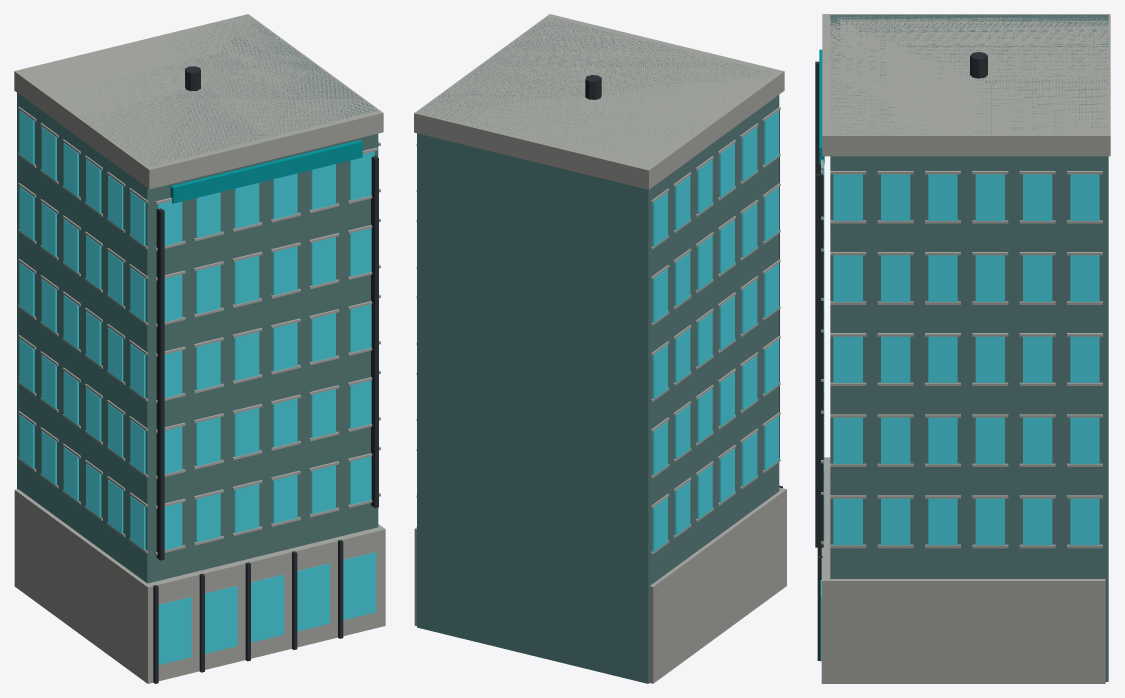
File: JHB_MidRise04_LOD1.fbx
3 renders of one model, left to right at view 1: azimuth 30°, elevation 25°; view 2: azimuth 150°, elevation 25°; view 3: azimuth 270°, elevation 25°, orthographic. The views are drawn at different scales.
Visible parts, largest first — view 1: JHB_MidRise04_LOD1_FacadeAtlas, JHB_MidRise04_LOD1_Concrete, JHB_MidRise04_LOD1_TealGlass, JHB_MidRise04_LOD1_DarkMetal, JHB_MidRise04_LOD1_BlankSignBand; view 2: JHB_MidRise04_LOD1_FacadeAtlas, JHB_MidRise04_LOD1_Concrete, JHB_MidRise04_LOD1_TealGlass, JHB_MidRise04_LOD1_DarkMetal; view 3: JHB_MidRise04_LOD1_Concrete, JHB_MidRise04_LOD1_FacadeAtlas, JHB_MidRise04_LOD1_TealGlass, JHB_MidRise04_LOD1_DarkMetal, JHB_MidRise04_LOD1_BlankSignBand.
Boxes of the visible parts, x1,y1,x2,y2 form: JHB_MidRise04_LOD1_FacadeAtlas: [17, 17, 378, 583]; JHB_MidRise04_LOD1_Concrete: [14, 14, 385, 683]; JHB_MidRise04_LOD1_TealGlass: [19, 110, 376, 664]; JHB_MidRise04_LOD1_DarkMetal: [153, 66, 378, 683]; JHB_MidRise04_LOD1_BlankSignBand: [170, 140, 362, 203]; JHB_MidRise04_LOD1_FacadeAtlas: [417, 18, 779, 683]; JHB_MidRise04_LOD1_Concrete: [414, 14, 786, 683]; JHB_MidRise04_LOD1_TealGlass: [652, 111, 779, 551]; JHB_MidRise04_LOD1_DarkMetal: [585, 75, 782, 488]; JHB_MidRise04_LOD1_Concrete: [821, 14, 1110, 683]; JHB_MidRise04_LOD1_FacadeAtlas: [830, 15, 1108, 681]; JHB_MidRise04_LOD1_TealGlass: [820, 162, 1099, 661]; JHB_MidRise04_LOD1_DarkMetal: [815, 52, 987, 660]; JHB_MidRise04_LOD1_BlankSignBand: [819, 49, 824, 164].
Bounding box in the file's own units: 8.25 × 17.6 × 8.32.
Materials: 5 (1 with a texture image).
